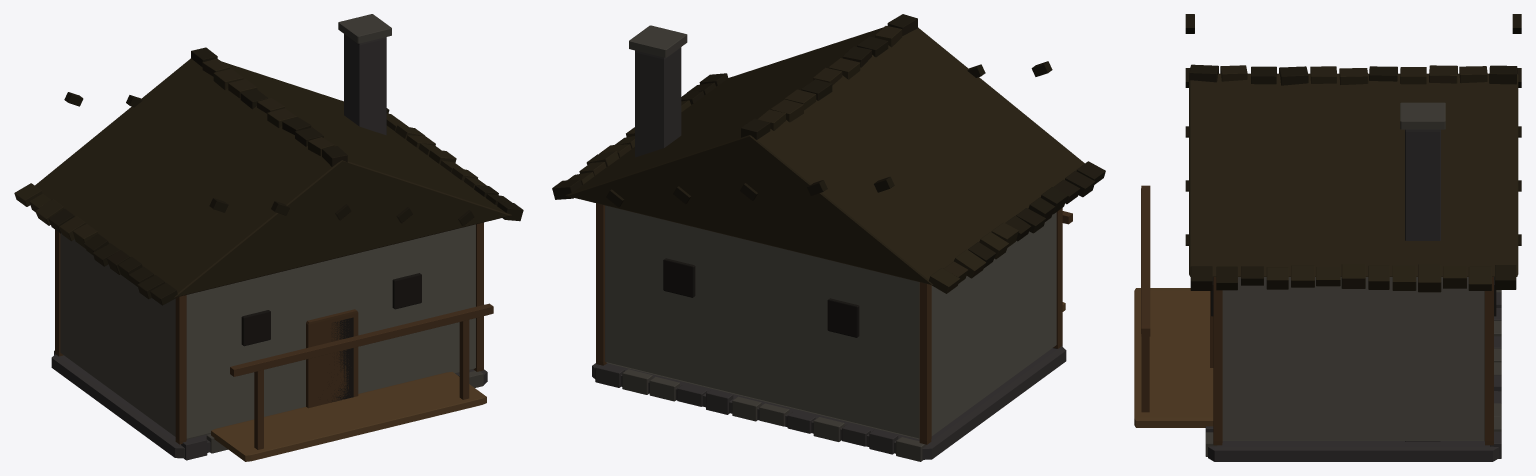
The model's file is house_large.glb.
The picture shows the model from 3 angles, left to right: view 1: azimuth 30°, elevation 25°; view 2: azimuth 150°, elevation 25°; view 3: azimuth 270°, elevation 25°; orthographic projection. The views are drawn at different scales.
Visible parts, largest first — view 1: house_large; view 2: house_large; view 3: house_large.
Boxes of the visible parts, x1=… form: house_large: x1=14, y1=14, x2=523, y2=461; house_large: x1=552, y1=14, x2=1105, y2=461; house_large: x1=1134, y1=14, x2=1521, y2=461.
Bounding box in the file's own units: 8.31 × 6.42 × 6.71.
